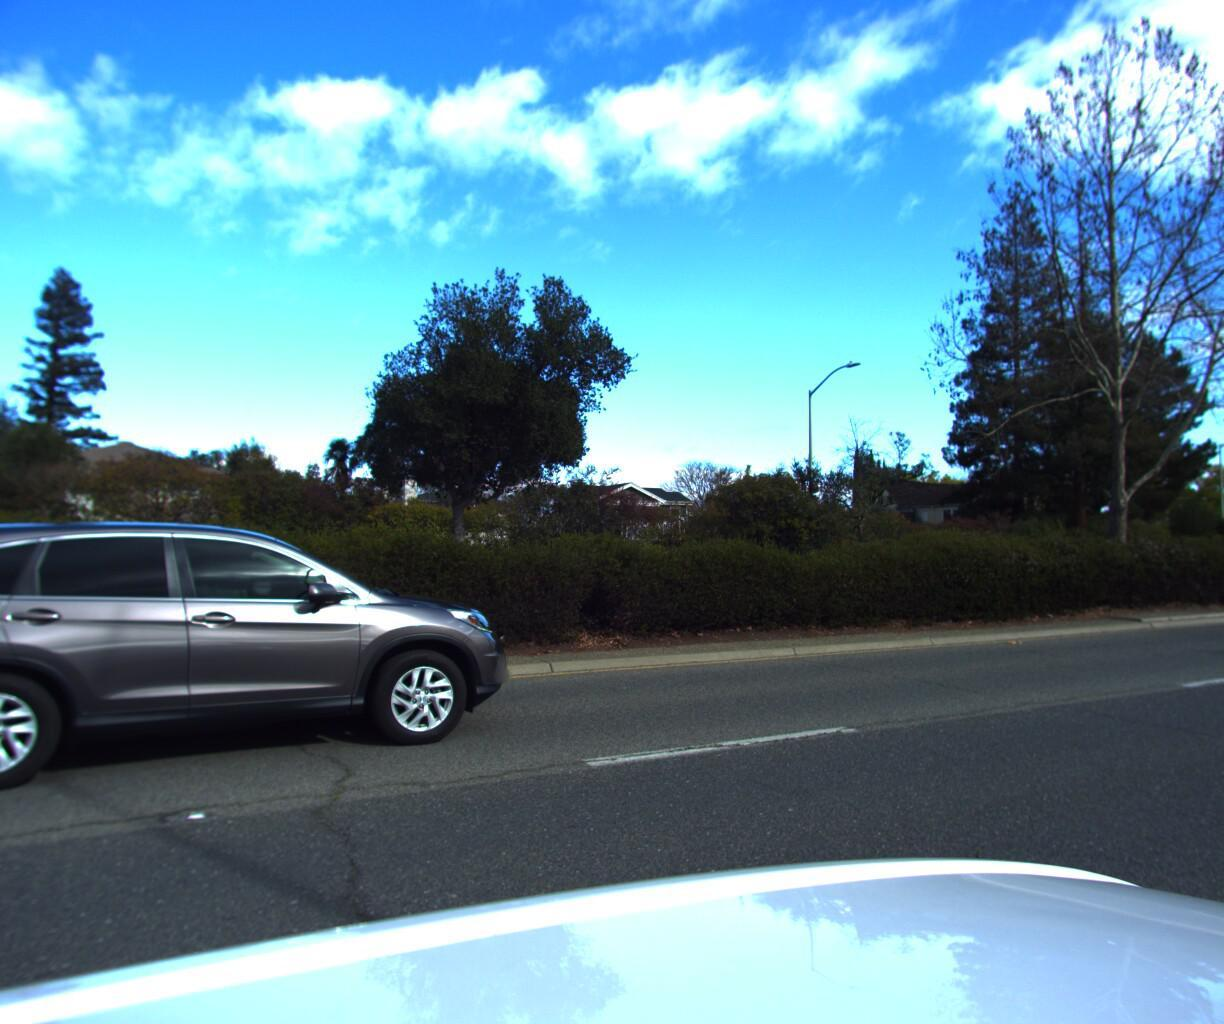car: (0, 494, 550, 821)
